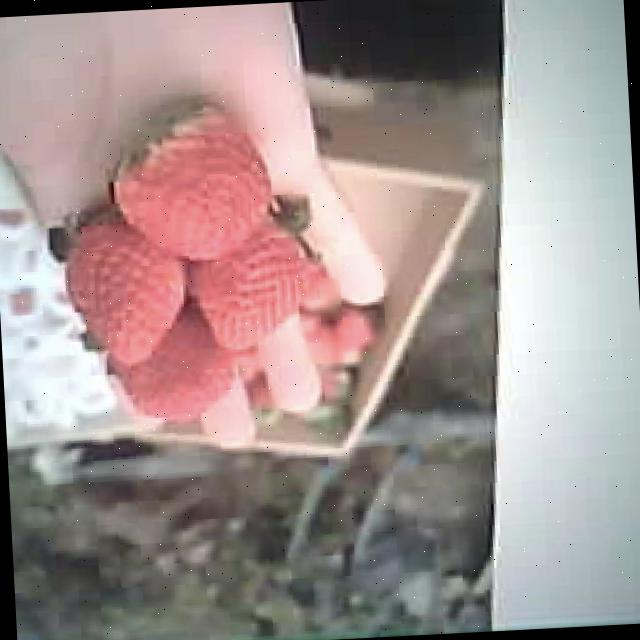strawberry: (108, 98, 276, 260), (64, 208, 190, 363), (192, 216, 317, 348)
